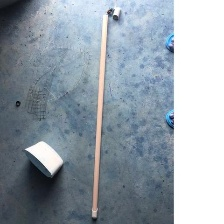light_bulb: (87, 10, 109, 222)
